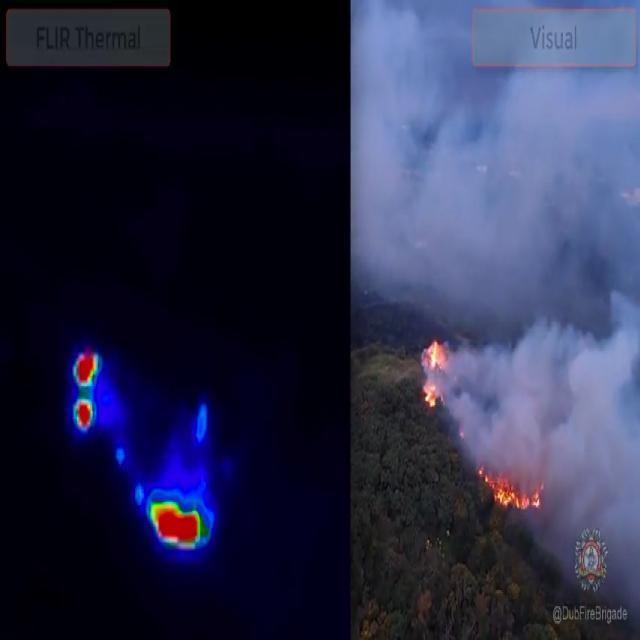fire: (148, 497, 209, 552), (73, 347, 104, 434)
